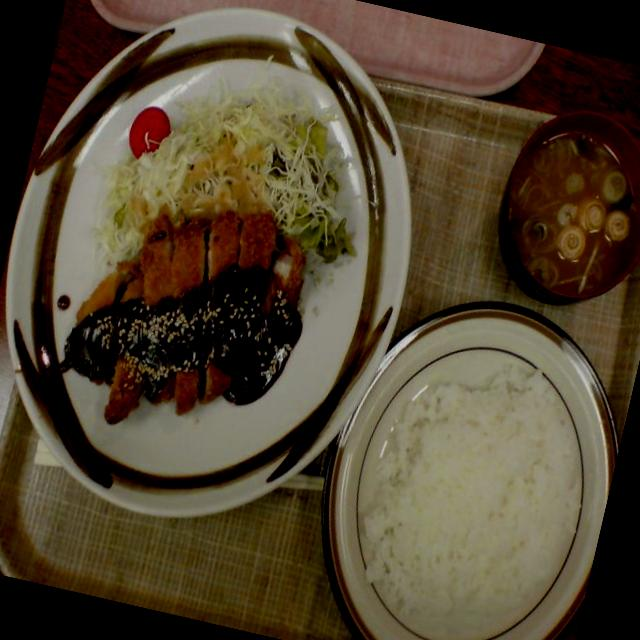Rice: (291, 262, 640, 640)
